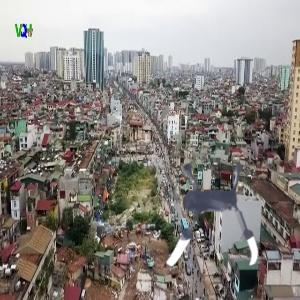drone: (138, 144, 280, 286)
